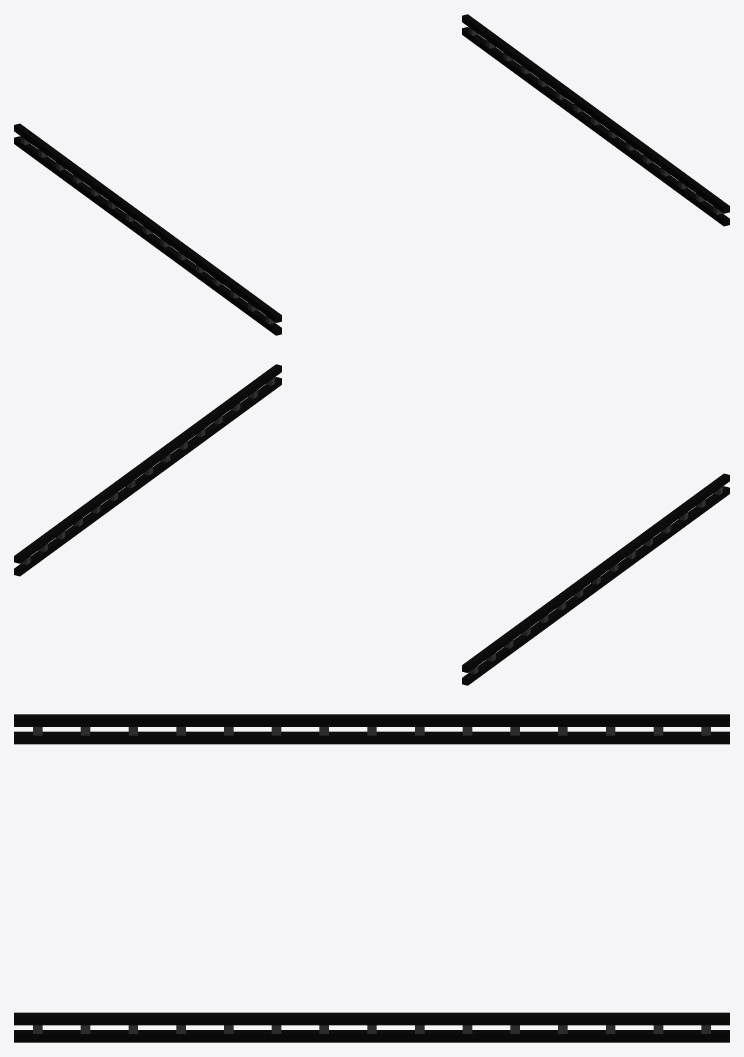
Rendered from ice-lava-1.obj.
3 views of the same model, one above another, from view 1: azimuth 30°, elevation 25°; view 2: azimuth 150°, elevation 25°; view 3: azimuth 270°, elevation 25° (orthographic). The views are drawn at different scales.
Visible parts, largest first — view 1: ice-lava-1; view 2: ice-lava-1; view 3: ice-lava-1.
Boxes of the visible parts, box(x1,y1,x2,y2) form: ice-lava-1: box(14, 14, 729, 335); ice-lava-1: box(14, 364, 729, 685); ice-lava-1: box(14, 714, 729, 1042).
Bounding box in the file's own units: 75 × 3 × 75.
Materials: 1 (1 with a texture image).
